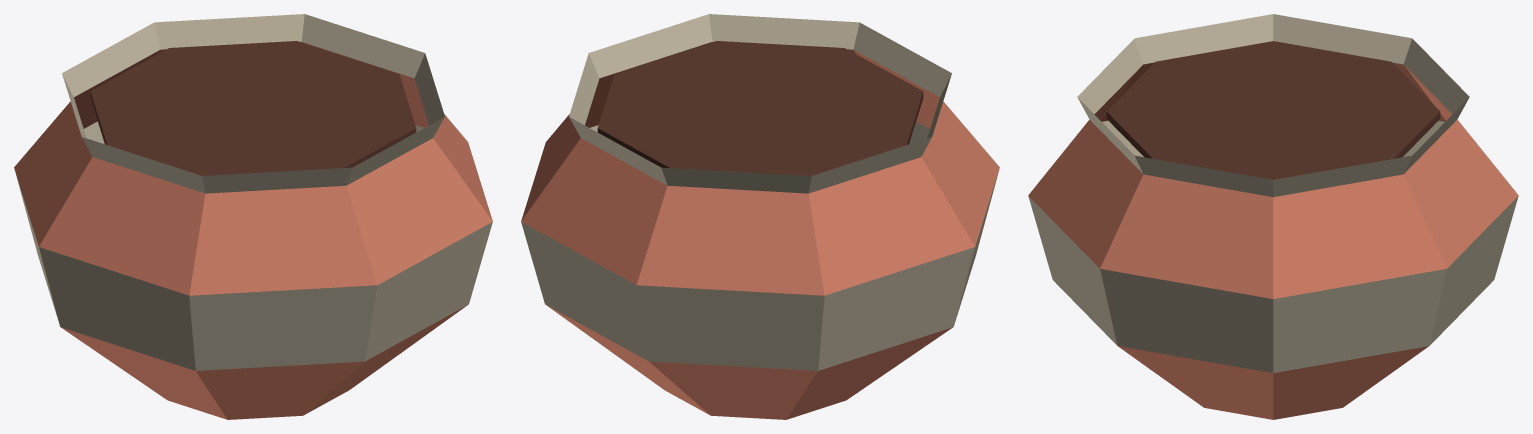
Rendered from vase-42.glb.
The picture shows the model from 3 angles, left to right: view 1: azimuth 30°, elevation 25°; view 2: azimuth 150°, elevation 25°; view 3: azimuth 270°, elevation 25°; orthographic projection.
Parts seen in each view (by area): view 1: vase_42; view 2: vase_42; view 3: vase_42.
Boxes of the visible parts, left/top/right/bottom form: vase_42: left=14, top=14, right=492, bottom=419; vase_42: left=521, top=14, right=999, bottom=419; vase_42: left=1028, top=14, right=1518, bottom=419.
Size of the model in its own units: 0.2432 by 0.154 by 0.2432.
